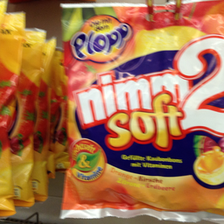candy: (63, 9, 221, 218)
